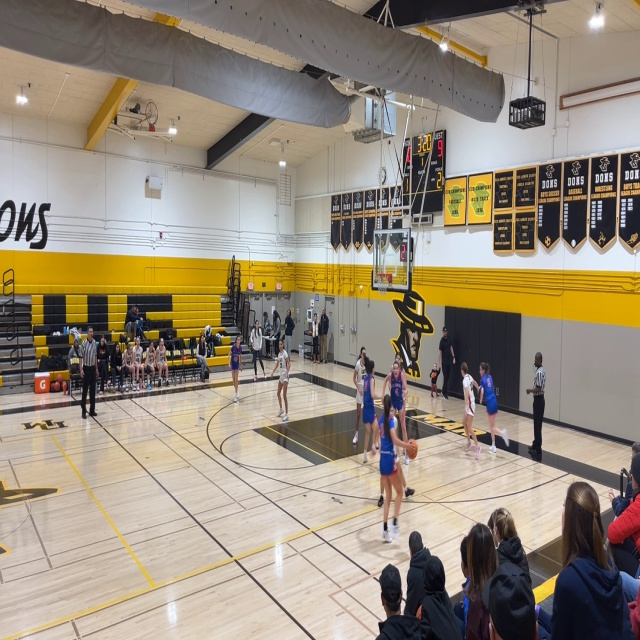Basketball: (406, 440, 418, 459)
